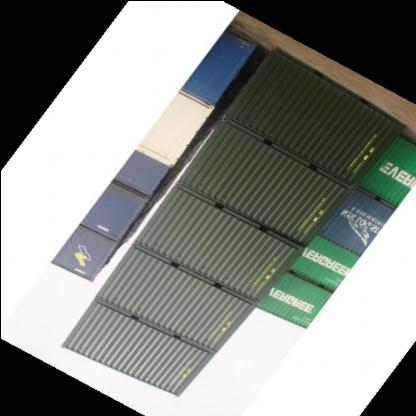Damage: (198, 262, 232, 288), (192, 336, 210, 352), (178, 247, 188, 266), (221, 190, 232, 206)
